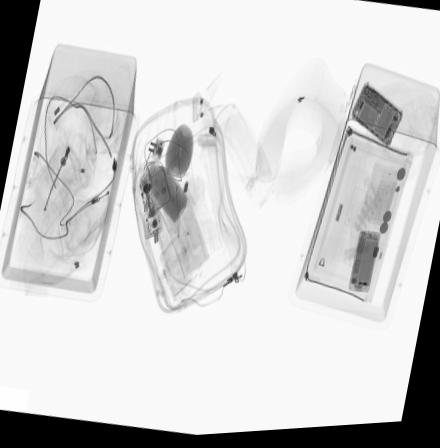Lighter: (136, 175, 150, 214)
